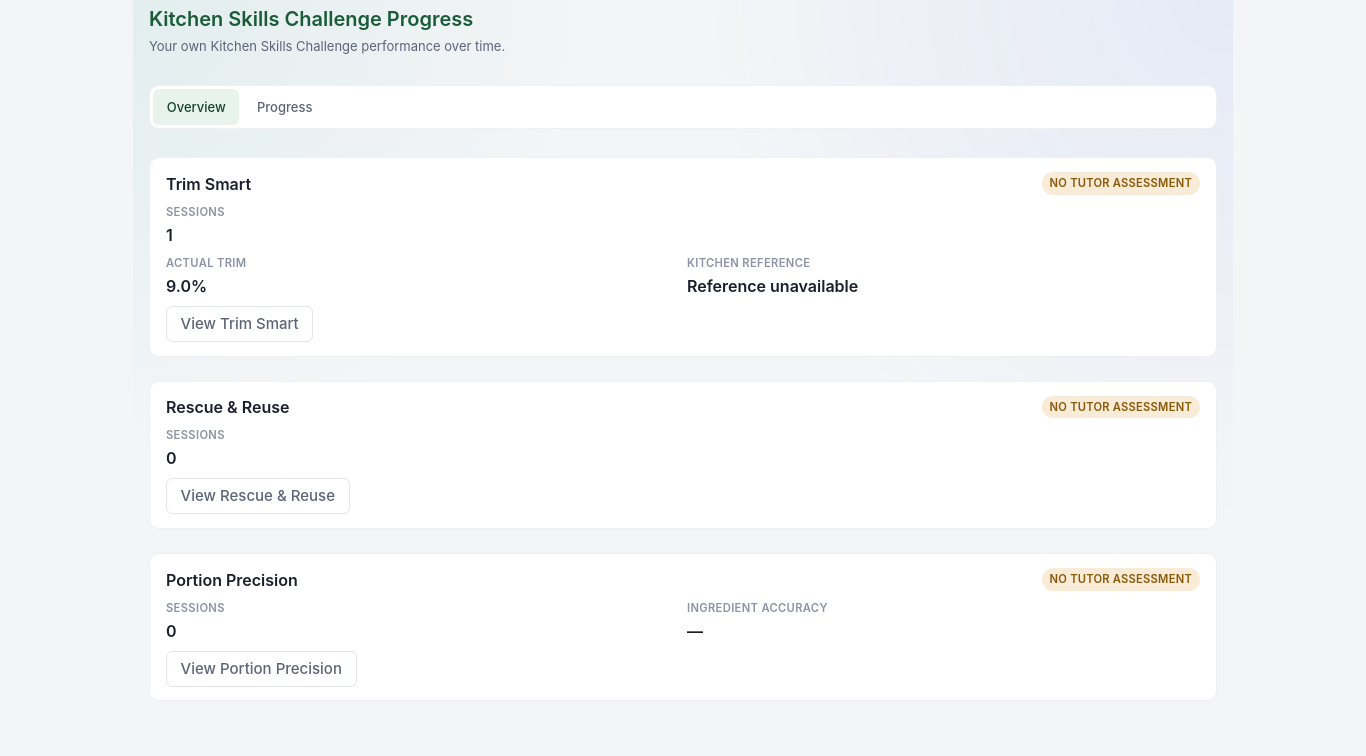
Test: Kitchen Day page split › shows the student own Trim result from self activities before tutor review exists
Check: the element with test id "kitchen-day-progress-overview-trimSmart" is shown, box x1=149 y1=157 x2=1217 y2=357
Check: the element with test id "kitchen-day-progress-overview-trimSmart" shows "No tutor assessment", box x1=1050 y1=176 x2=1192 y2=190
Click the tab with test id "kitchen-day-progress-tab-progress": [285, 107] box x1=243 y1=89 x2=326 y2=125
(page scrolled)
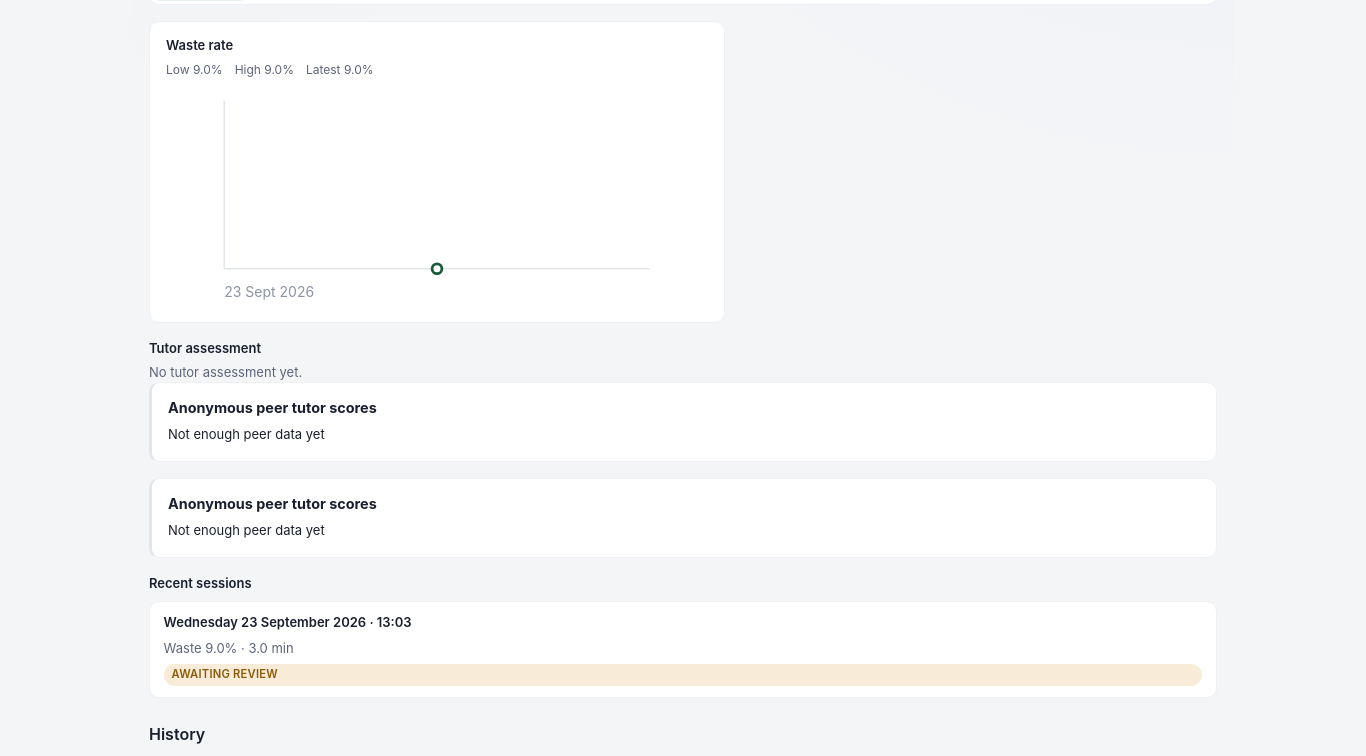
Check: the text "No tutor assessment yet." is shown, box x1=149 y1=364 x2=302 y2=380
